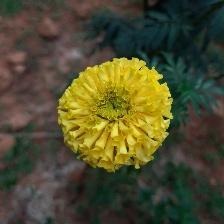marigold: (56, 56, 174, 172)
